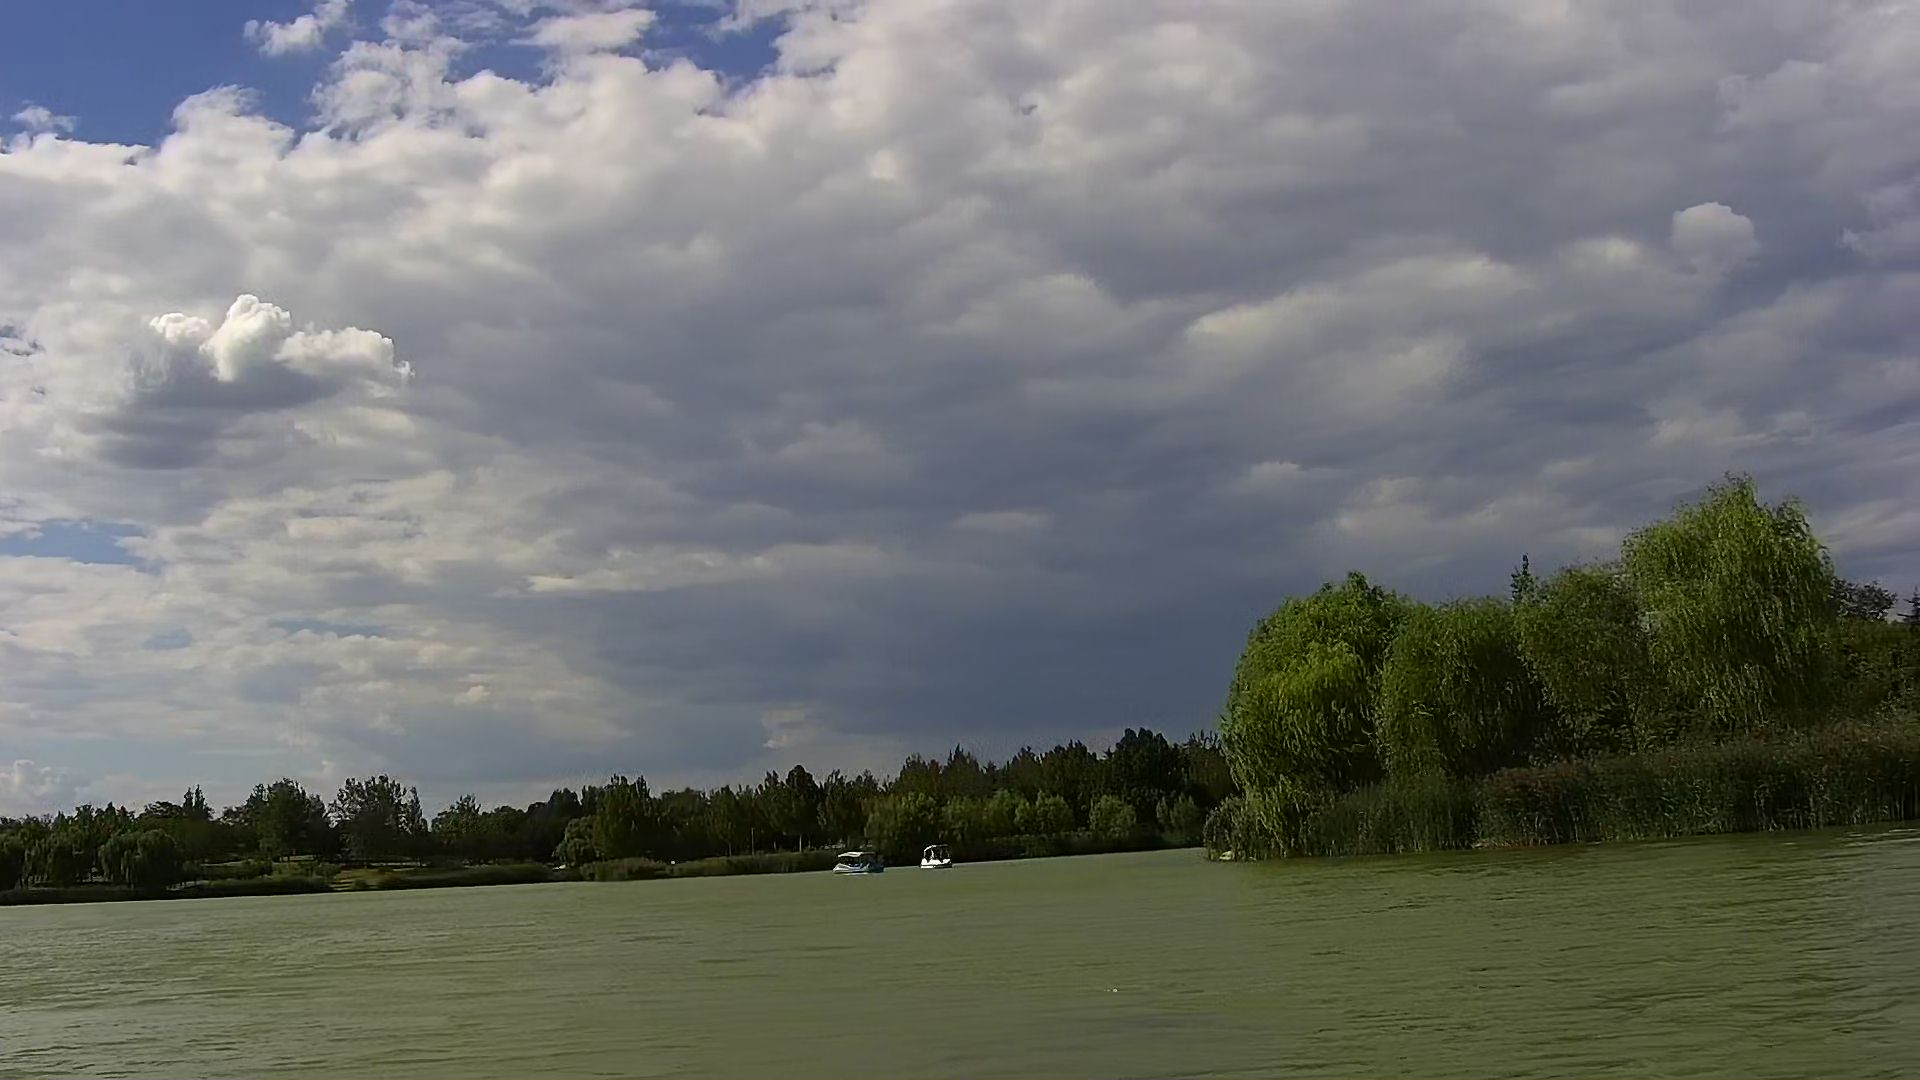boat: (829, 849, 886, 877), (915, 843, 957, 870)
rock: (1216, 848, 1240, 862)
